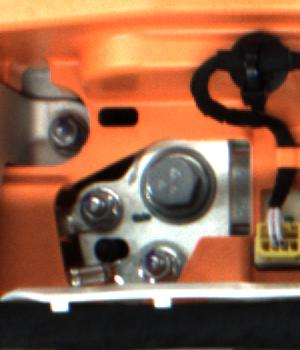nut_b: (140, 150, 212, 217)
screw_s: (141, 245, 182, 284), (79, 189, 115, 229), (45, 117, 87, 149)
